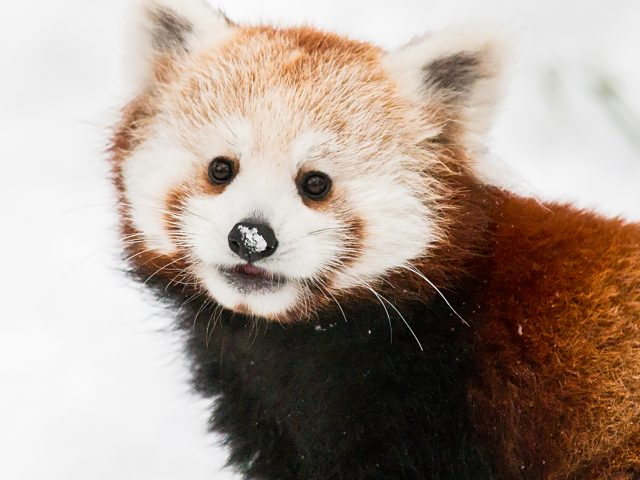red_panda: (102, 17, 640, 479)
